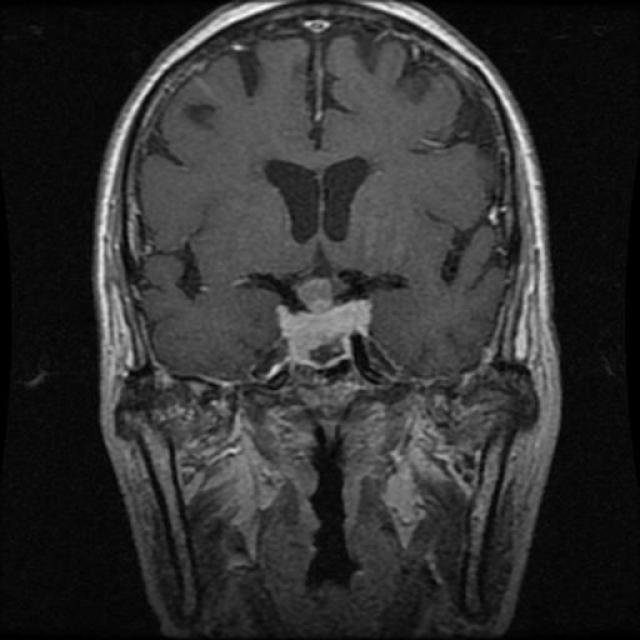pituitary: (278, 267, 353, 330)
